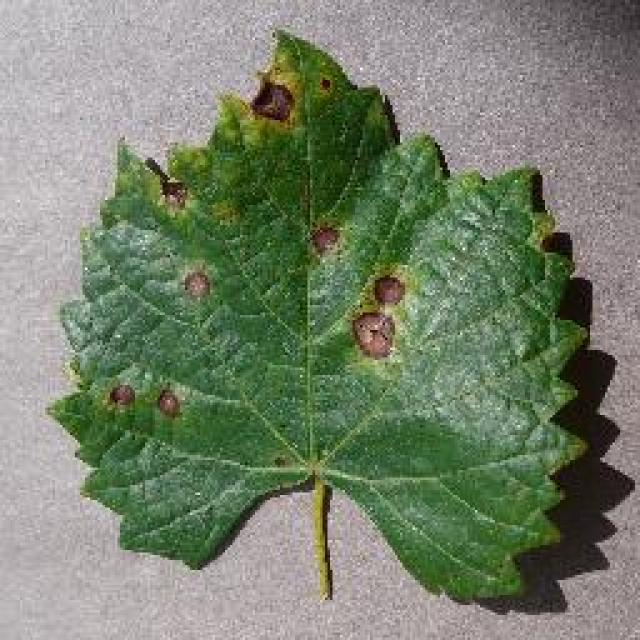Grape___Black_rot: (36, 29, 596, 609)
